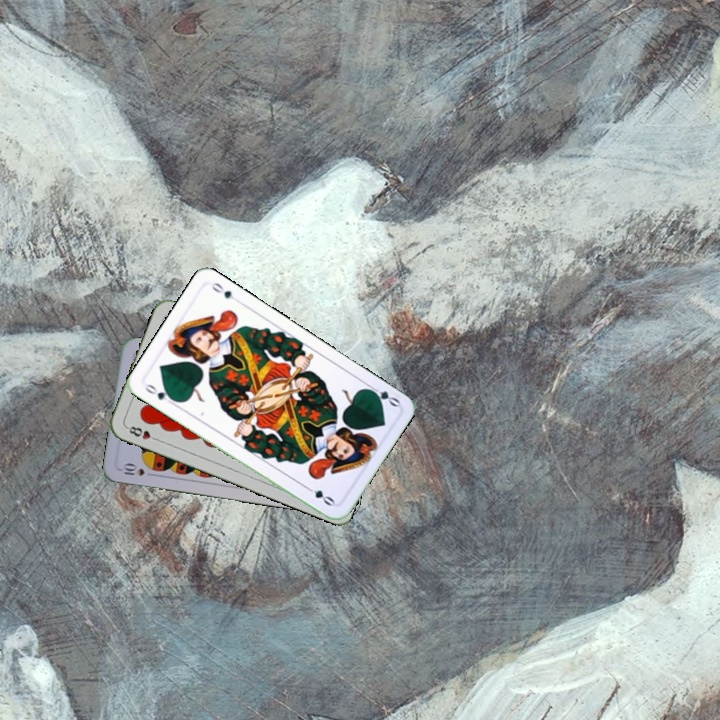GO: (363, 381, 402, 410), (140, 380, 178, 408)
H8: (123, 422, 162, 444)
S10: (119, 460, 157, 479)
